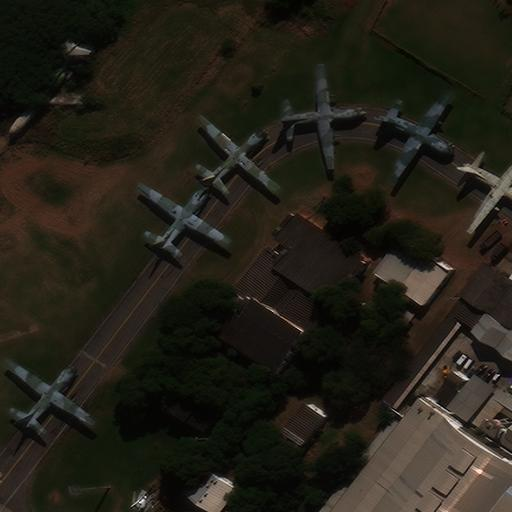Military Transport: (283, 63, 366, 169), (378, 95, 454, 182), (201, 115, 280, 188), (140, 183, 231, 245), (9, 359, 95, 423), (459, 154, 512, 233)
